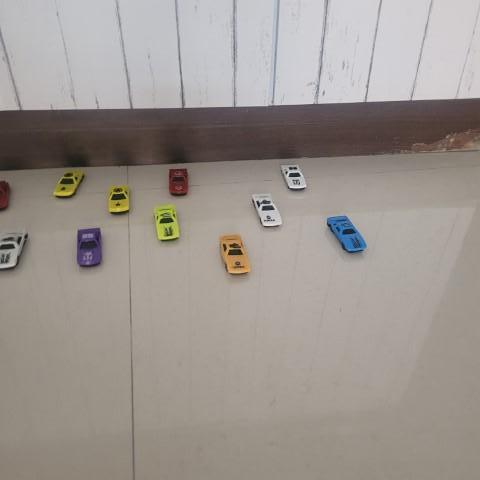car: (320, 208, 369, 253), (215, 230, 254, 278), (151, 202, 185, 241), (250, 192, 283, 228), (52, 168, 86, 201), (76, 226, 103, 267), (106, 182, 134, 216), (279, 159, 308, 190), (167, 166, 190, 197)
